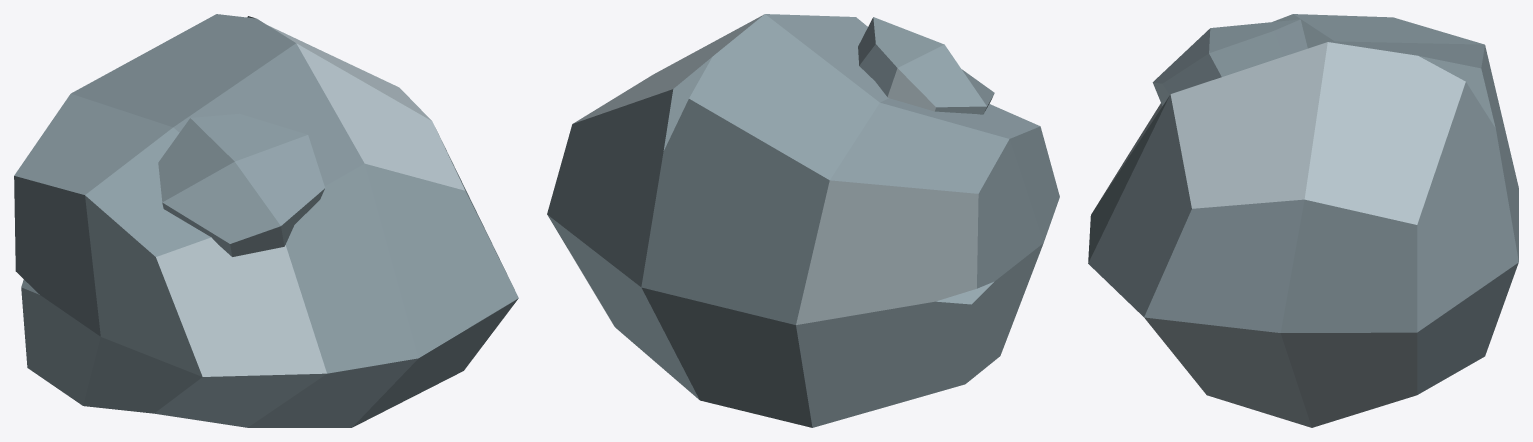
The model's file is Rock.gltf.
3 renders of one model, left to right at view 1: azimuth 30°, elevation 25°; view 2: azimuth 150°, elevation 25°; view 3: azimuth 270°, elevation 25°, orthographic.
Visible parts, largest first — view 1: Cube_Cube.032; view 2: Cube_Cube.032; view 3: Cube_Cube.032.
Boxes of the visible parts, bbox=[...] form: Cube_Cube.032: bbox=[14, 14, 518, 427]; Cube_Cube.032: bbox=[547, 14, 1059, 427]; Cube_Cube.032: bbox=[1088, 14, 1518, 427].
Bounding box in the file's own units: 240 × 200 × 216.
